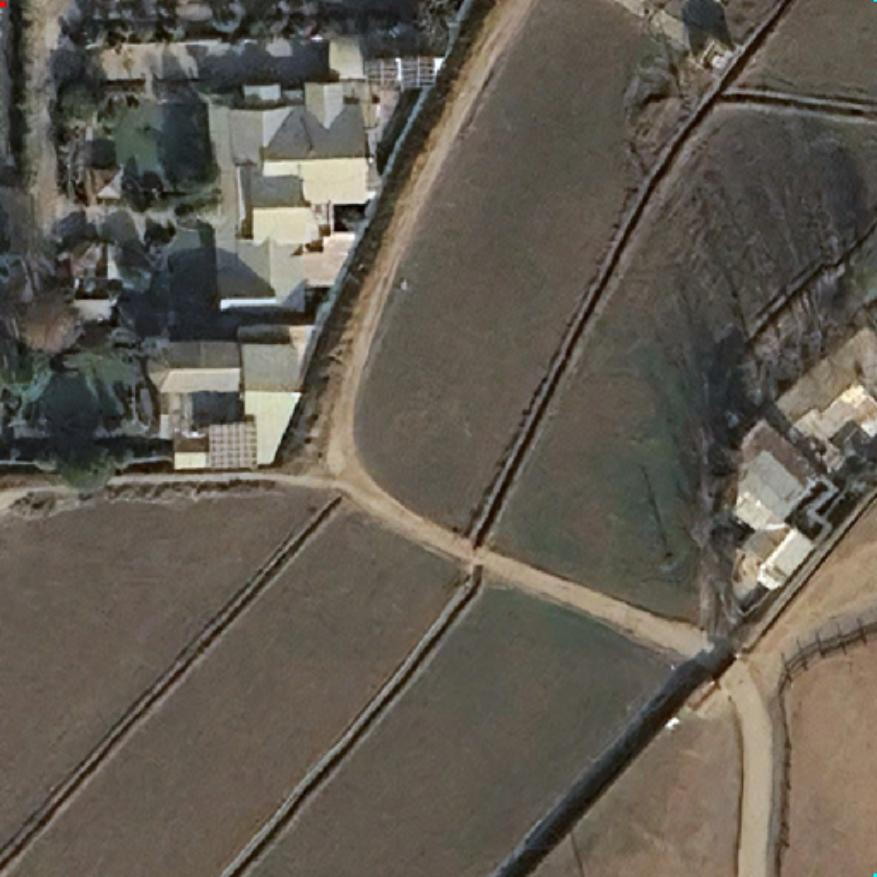Solarpanel: (205, 418, 259, 472), (397, 51, 438, 91), (362, 56, 400, 90)
